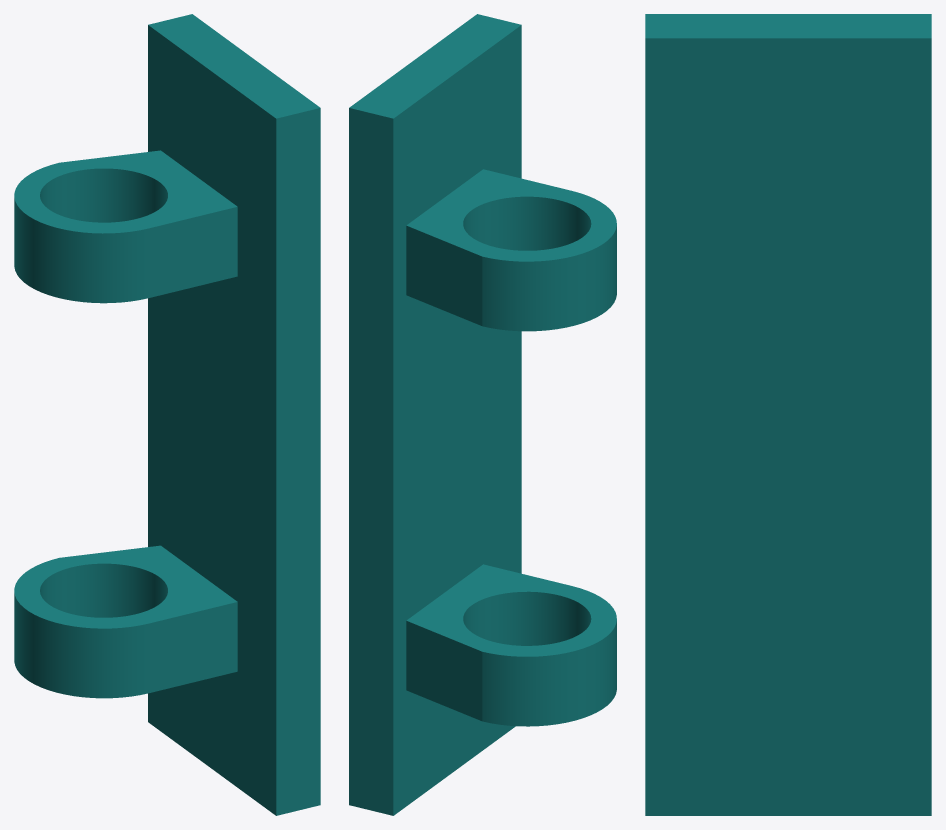
The model's file is Panel.obj.
The picture shows the model from 3 angles, left to right: view 1: azimuth 30°, elevation 25°; view 2: azimuth 150°, elevation 25°; view 3: azimuth 270°, elevation 25°; orthographic projection. The views are drawn at different scales.
Parts seen in each view (by area): view 1: Panel arreglado; view 2: Panel arreglado; view 3: Panel arreglado.
Part boxes in pixels (<box>): Panel arreglado: <box>14,14,320,815</box>; Panel arreglado: <box>349,14,616,815</box>; Panel arreglado: <box>645,14,931,815</box>.
Bounding box in the file's own units: 94.95 × 300 × 100.
